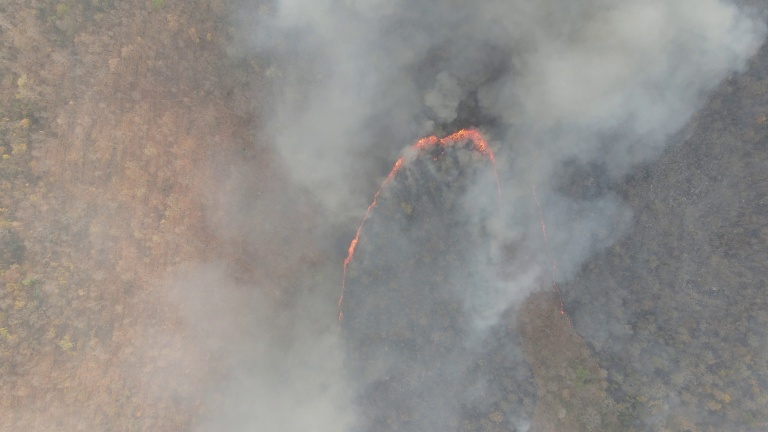fire: (336, 126, 503, 324), (527, 172, 557, 266), (555, 288, 570, 323)
smoke: (459, 1, 766, 296), (168, 250, 381, 432), (220, 1, 408, 205)
